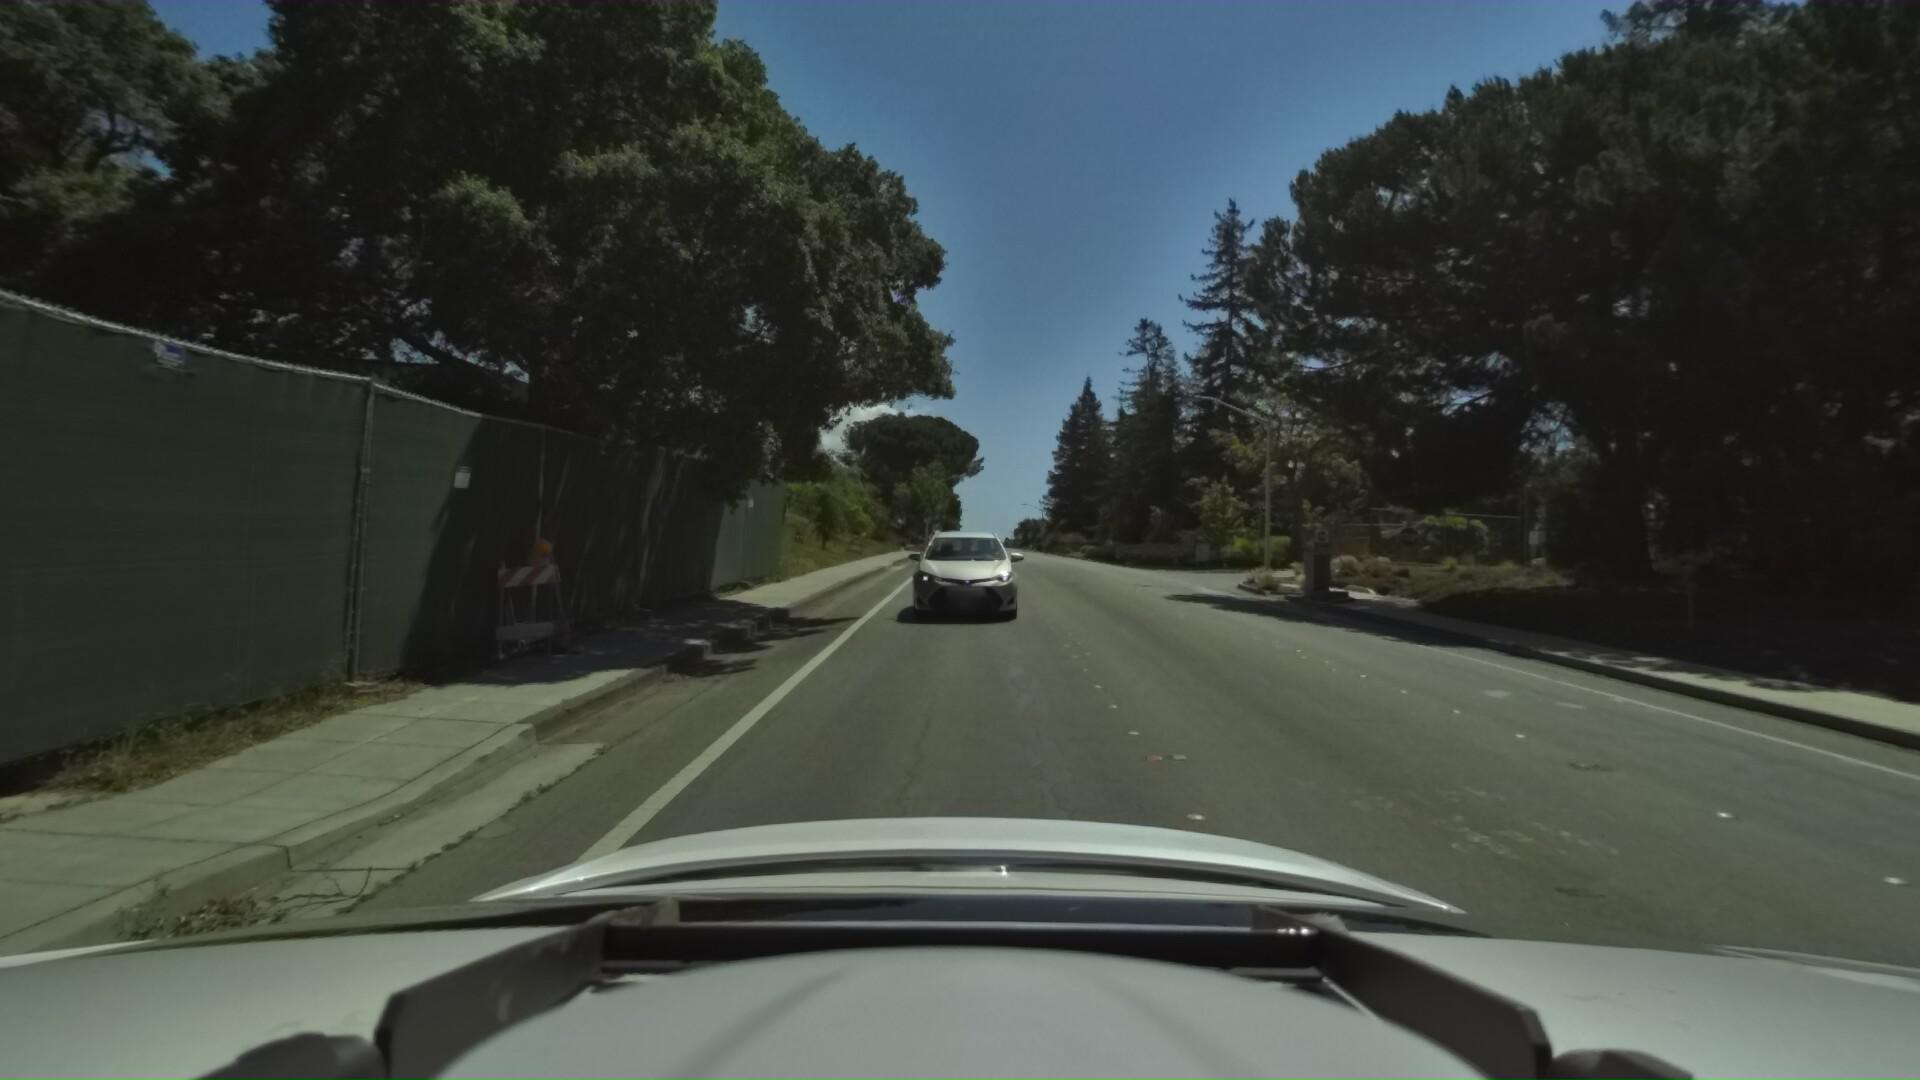car: (895, 506, 1029, 628), (928, 517, 976, 564)
